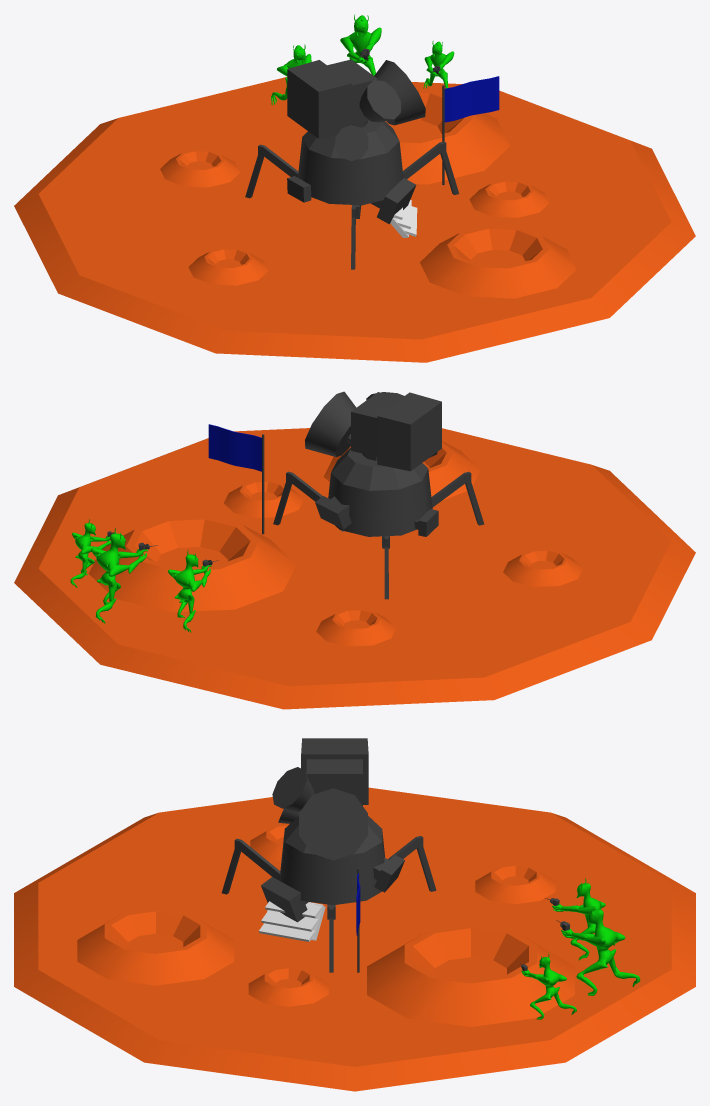
The model's file is LunarScene.FBX.
The picture shows the model from 3 angles, top to bottom: view 1: azimuth 30°, elevation 25°; view 2: azimuth 150°, elevation 25°; view 3: azimuth 270°, elevation 25°; orthographic projection. The views are drawn at different scales.
Parts seen in each view (by area): view 1: Cylinder001, Lander, Box001, Alien001, Alien002, Box003, Alien; view 2: Cylinder001, Lander, Box001, Alien001, Alien, Alien002; view 3: Cylinder001, Lander, Alien001, Box003, Alien002, Alien.
Part boxes in pixels (x1,y1,x2,y2): Cylinder001: (14,77,695,362); Lander: (245,59,459,269); Box001: (444,76,499,122); Alien001: (340,14,381,75); Alien002: (423,40,454,88); Box003: (390,200,417,237); Alien: (271,44,311,105); Cylinder001: (14,428,695,709); Lander: (273,391,484,599); Box001: (208,424,261,471); Alien001: (91,528,157,623); Alien: (168,550,218,632); Alien002: (70,519,114,587); Cylinder001: (14,787,695,1091); Lander: (221,738,436,972); Alien001: (556,903,640,995); Box003: (259,901,325,941); Alien002: (520,953,576,1019); Alien: (545,878,617,960).
Bounding box in the file's own units: 230 × 60.42 × 218.
